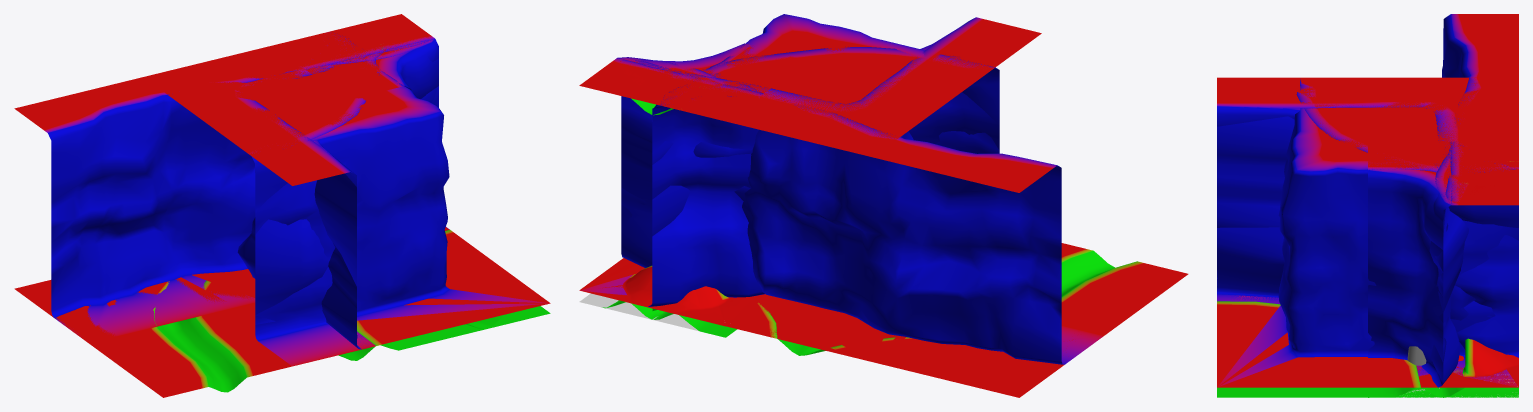
Rendered from Terain_Vertex_Colors.fbx.
3 renders of one model, left to right at view 1: azimuth 30°, elevation 25°; view 2: azimuth 150°, elevation 25°; view 3: azimuth 270°, elevation 25°, orthographic. The views are drawn at different scales.
Visible parts, largest first — view 1: Cliff_Face_4, Cliff_Big_Hard_Corner, Cliff_Big_Soft_Corner, River_Splitsing, Cliff_big_Inside_Corner_Hard, River_Bend_Big, Cliff_Face_2, Cliff_big_Inside_Corner_Soft, Cliff_Corner_4, Cliff_Corner_3, Cliff_Face_3, Curve_Inside_Shore_Big (+1 smaller); view 2: Cliff_Face_4, Cliff_Corner_2, Cliff_Big_Soft_Corner, Cliff_big_Inside_Corner_Hard, River_Splitsing, Cliff_Big_Hard_Corner, Cliff_Corner_3, River_Bend_Big, Cliff_Face_2, Cliff_Face_3, River_Ponor_1, Cliff_Corner_4 (+9 smaller); view 3: Cliff_Big_Hard_Corner, Cliff_big_Inside_Corner_Hard, Cliff_Corner_4, Cliff_Big_Soft_Corner, Cliff_Face_4, River_Bend_Big, Cliff_big_Inside_Corner_Soft, Cliff_Corner_1, Cliff_Face_1, Cliff_Corner_3, Curve_Inside_Shore_Big, Cliff_Face_2 (+7 smaller).
Part boxes in pixels (box(x1,y1,x2,y2)): Cliff_Face_4: box(14, 15, 438, 336); Cliff_Big_Hard_Corner: box(202, 54, 549, 366); Cliff_Big_Soft_Corner: box(145, 33, 379, 345); River_Splitsing: box(14, 280, 504, 397); Cliff_big_Inside_Corner_Hard: box(144, 17, 432, 348); River_Bend_Big: box(175, 229, 550, 360); Cliff_Face_2: box(274, 14, 434, 66); Cliff_big_Inside_Corner_Soft: box(302, 14, 448, 349); Cliff_Corner_4: box(284, 15, 438, 99); Cliff_Corner_3: box(275, 15, 433, 98); Cliff_Face_3: box(274, 14, 438, 107); Curve_Inside_Shore_Big: box(351, 306, 550, 352); Cliff_Face_4: box(594, 57, 1103, 364); Cliff_Corner_2: box(649, 94, 764, 306); Cliff_Big_Soft_Corner: box(652, 47, 999, 236); Cliff_big_Inside_Corner_Hard: box(600, 17, 1041, 253); River_Splitsing: box(726, 243, 1188, 397); Cliff_Big_Hard_Corner: box(652, 14, 999, 198); Cliff_Corner_3: box(621, 43, 804, 267); River_Bend_Big: box(726, 294, 906, 361); Cliff_Face_2: box(579, 58, 762, 121); Cliff_Face_3: box(602, 71, 758, 121); River_Ponor_1: box(581, 258, 729, 324); Cliff_Corner_4: box(600, 44, 750, 118); Cliff_Big_Hard_Corner: box(1218, 79, 1518, 386); Cliff_big_Inside_Corner_Hard: box(1217, 77, 1518, 312); Cliff_Corner_4: box(1368, 146, 1518, 375); Cliff_Big_Soft_Corner: box(1237, 78, 1518, 386); Cliff_Face_4: box(1421, 14, 1518, 387); River_Bend_Big: box(1217, 301, 1438, 388); Cliff_big_Inside_Corner_Soft: box(1217, 106, 1516, 304); Cliff_Corner_1: box(1418, 142, 1518, 387); Cliff_Face_1: box(1416, 141, 1518, 385); Cliff_Corner_3: box(1368, 141, 1518, 385); Curve_Inside_Shore_Big: box(1217, 366, 1512, 397); Cliff_Face_2: box(1417, 141, 1518, 367).
Bounding box in the file's own units: 1800 × 884 × 1200.
